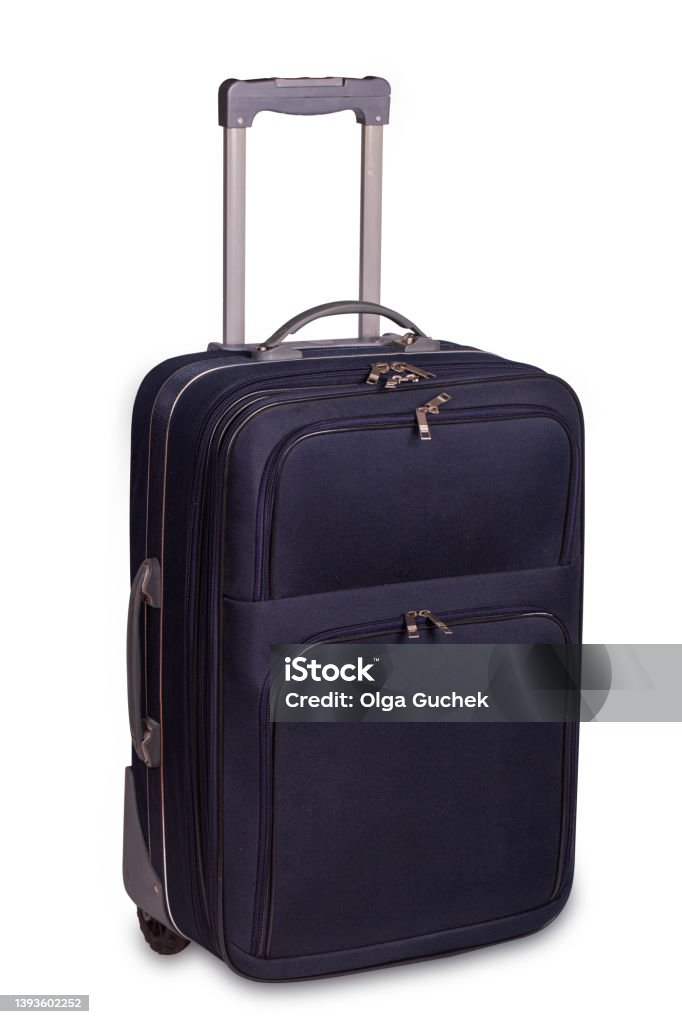Bag: (113, 52, 592, 989)
Handle: (202, 69, 407, 351)
